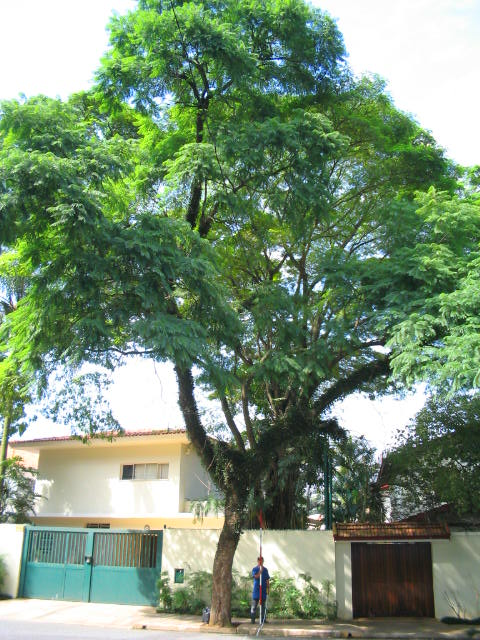crown: (4, 2, 477, 464)
stem: (200, 487, 254, 627)
stick: (251, 510, 267, 626)
tree: (2, 1, 479, 628)
